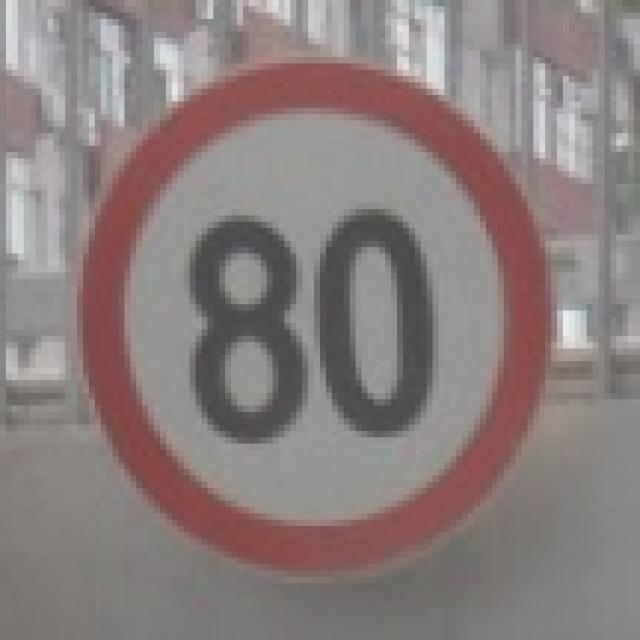Speed Limit -80-: (186, 202, 439, 448)
